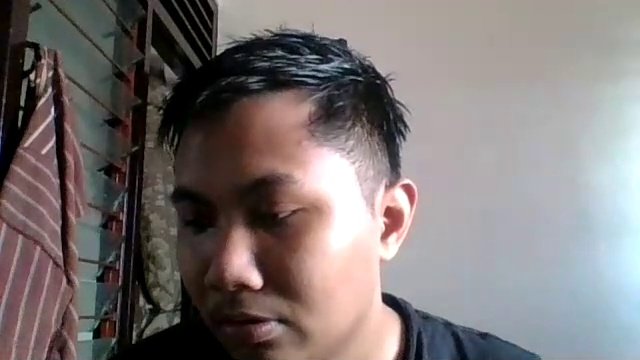Distracted: (169, 99, 418, 360)
